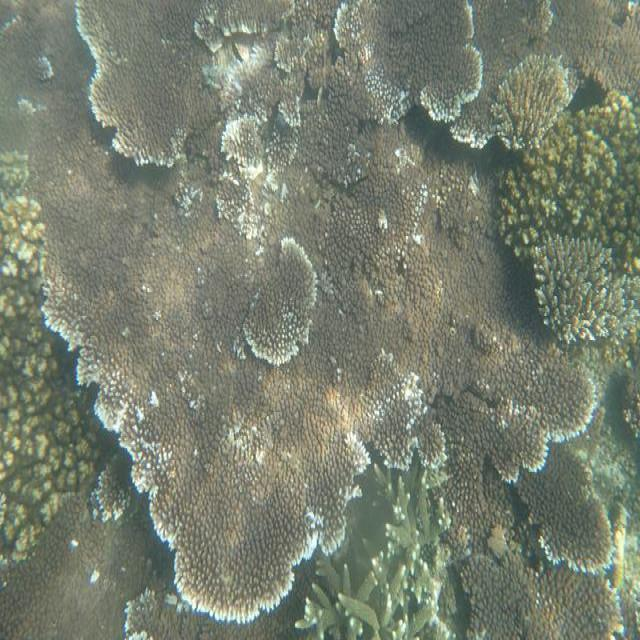aquatic plants: (294, 454, 452, 639)
reefs: (1, 2, 597, 622), (3, 453, 316, 635), (1, 158, 114, 571), (75, 0, 317, 183), (295, 0, 481, 182), (450, 1, 639, 150), (501, 92, 638, 280), (460, 552, 625, 638), (514, 448, 611, 567), (535, 241, 624, 345)
